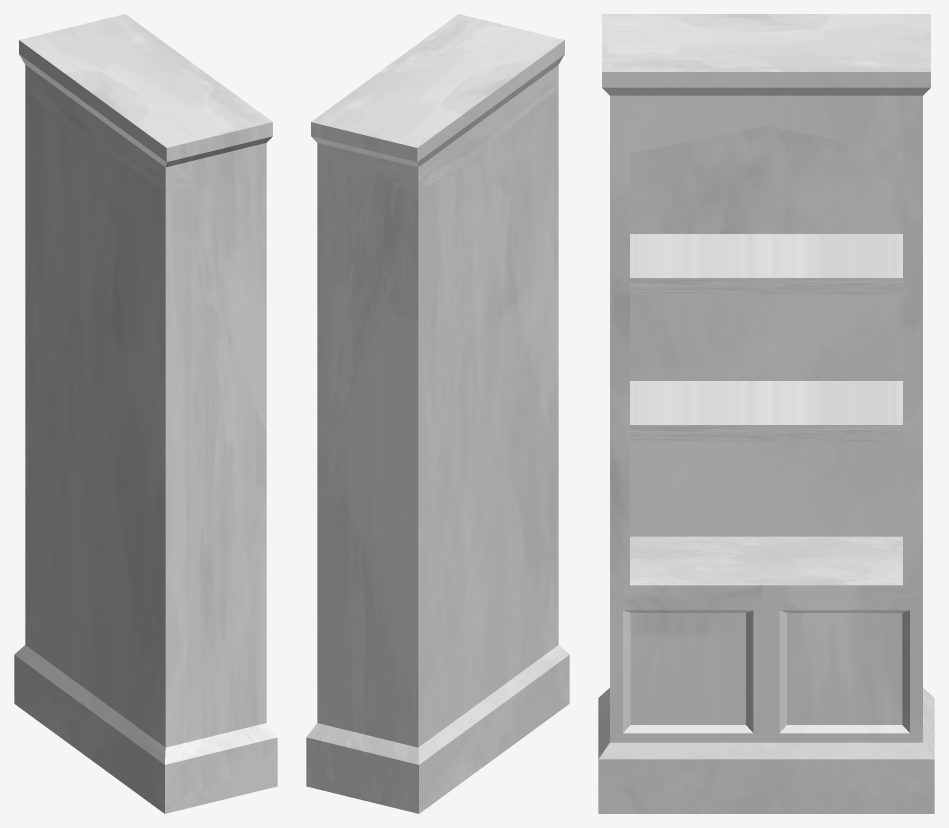
Rendered from Book_shelf_nice.fbx.
3 renders of one model, left to right at view 1: azimuth 30°, elevation 25°; view 2: azimuth 150°, elevation 25°; view 3: azimuth 270°, elevation 25°, orthographic. The views are drawn at different scales.
Parts seen in each view (by area): view 1: polySurface206; view 2: polySurface206; view 3: polySurface206.
Part boxes in pixels (x1,y1,x2,y2): polySurface206: (14, 14, 277, 813); polySurface206: (306, 14, 569, 813); polySurface206: (598, 14, 934, 813).
Size of the model in its own units: 62.41 by 351 by 144.
